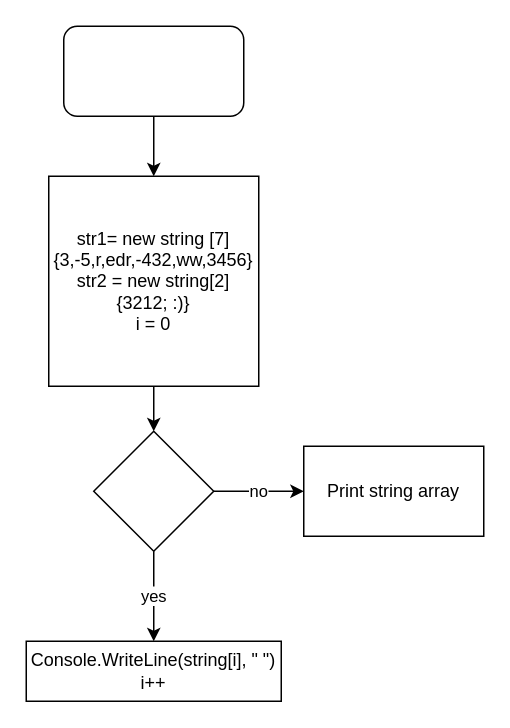
Image size: 510x728. Some labels were removed from this diagram. Each missing label, with the centre of its shape:
if (i < 3): (153,490)
start: (153,70)
